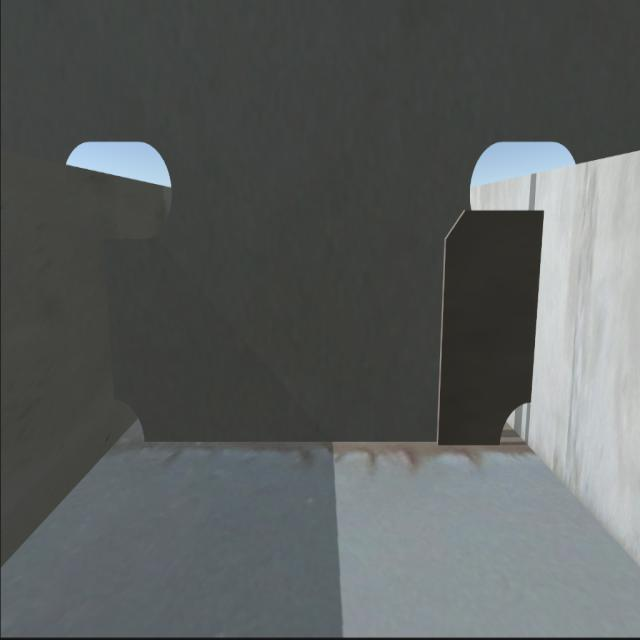fillet_hole: (114, 398, 146, 445), (498, 399, 530, 446)
fillet_yong_jeop_jang: (144, 437, 502, 451)
longi_yong_jeop_jang: (102, 246, 119, 398), (533, 212, 543, 400)
plate_CP01: (440, 202, 531, 446)
